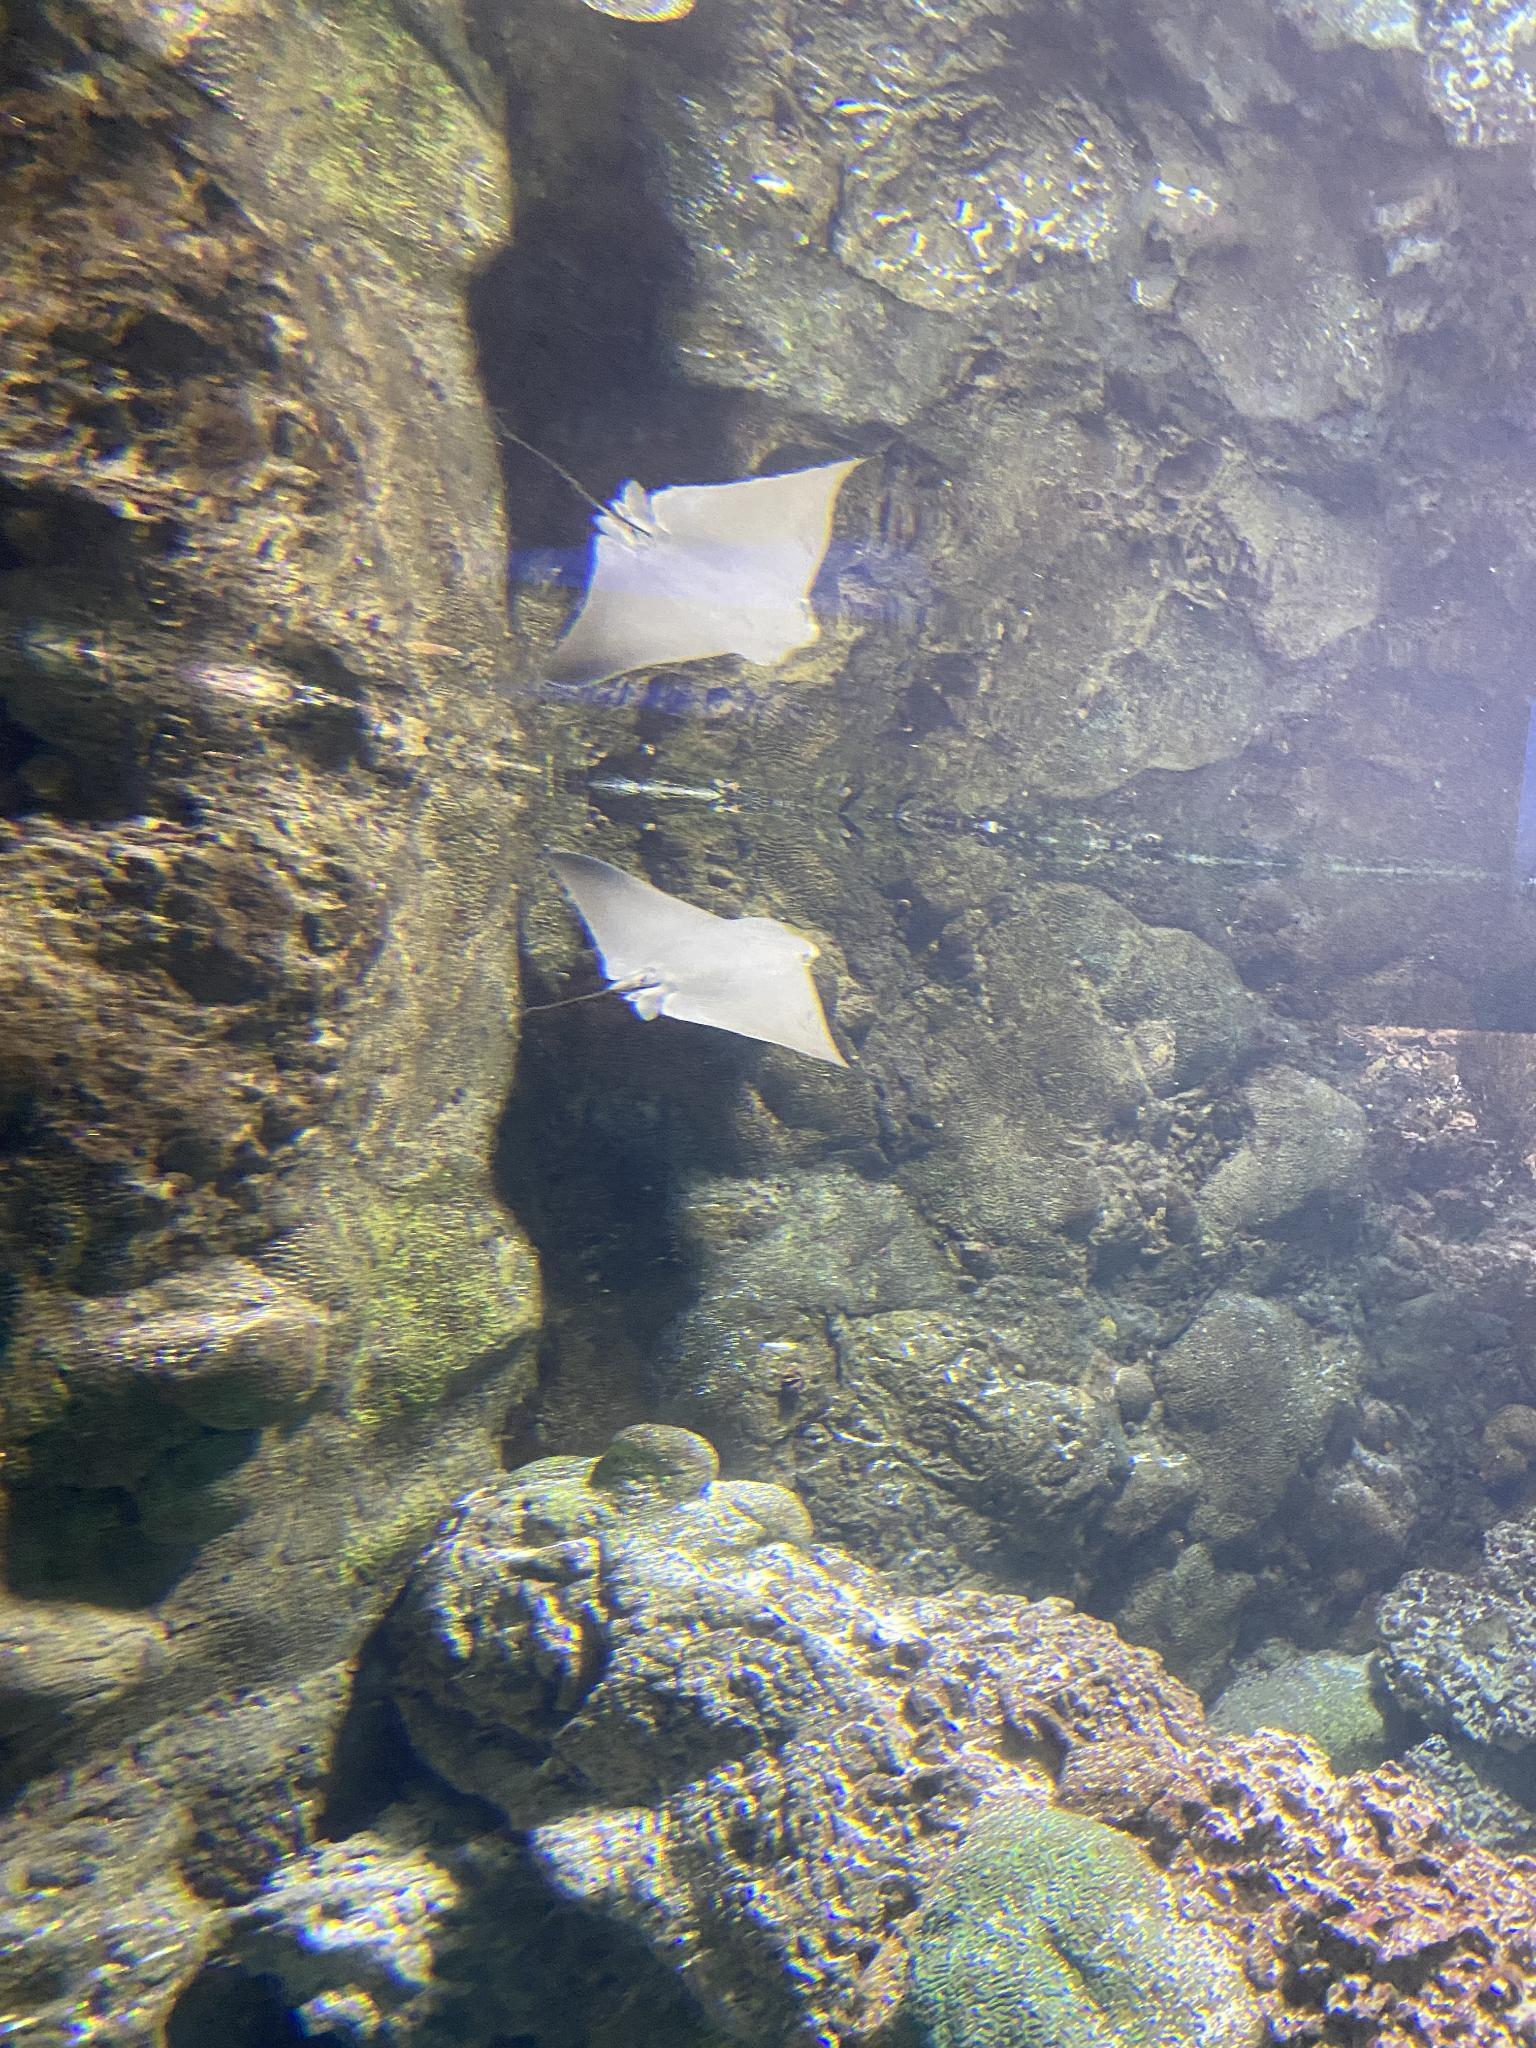stingray: (549, 840, 860, 1077), (565, 460, 857, 689)
